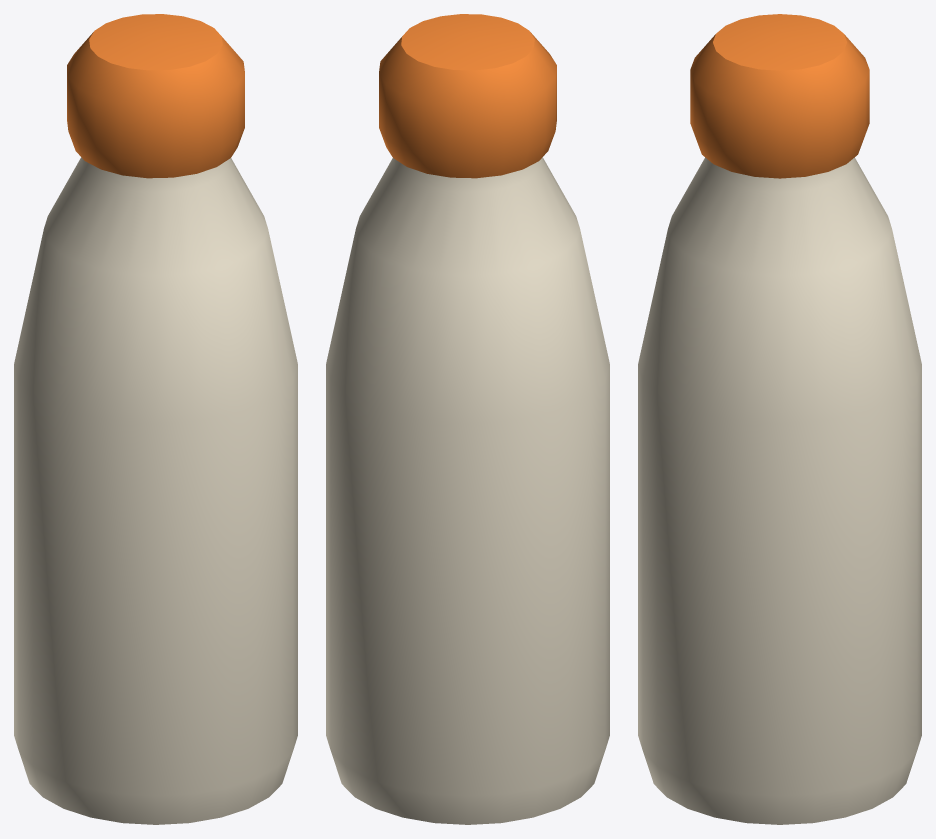
Rendered from garrafa_leite.glb.
3 renders of one model, left to right at view 1: azimuth 30°, elevation 25°; view 2: azimuth 150°, elevation 25°; view 3: azimuth 270°, elevation 25°, orthographic.
Parts seen in each view (by area): view 1: garrafa_leite; view 2: garrafa_leite; view 3: garrafa_leite.
Part boxes in pixels (box(x1,y1,x2,y2)): garrafa_leite: box(14, 14, 297, 824); garrafa_leite: box(326, 14, 609, 824); garrafa_leite: box(638, 14, 921, 824).
Bounding box in the file's own units: 0.076 × 0.217 × 0.076.
Materials: 1 (1 with a texture image).
